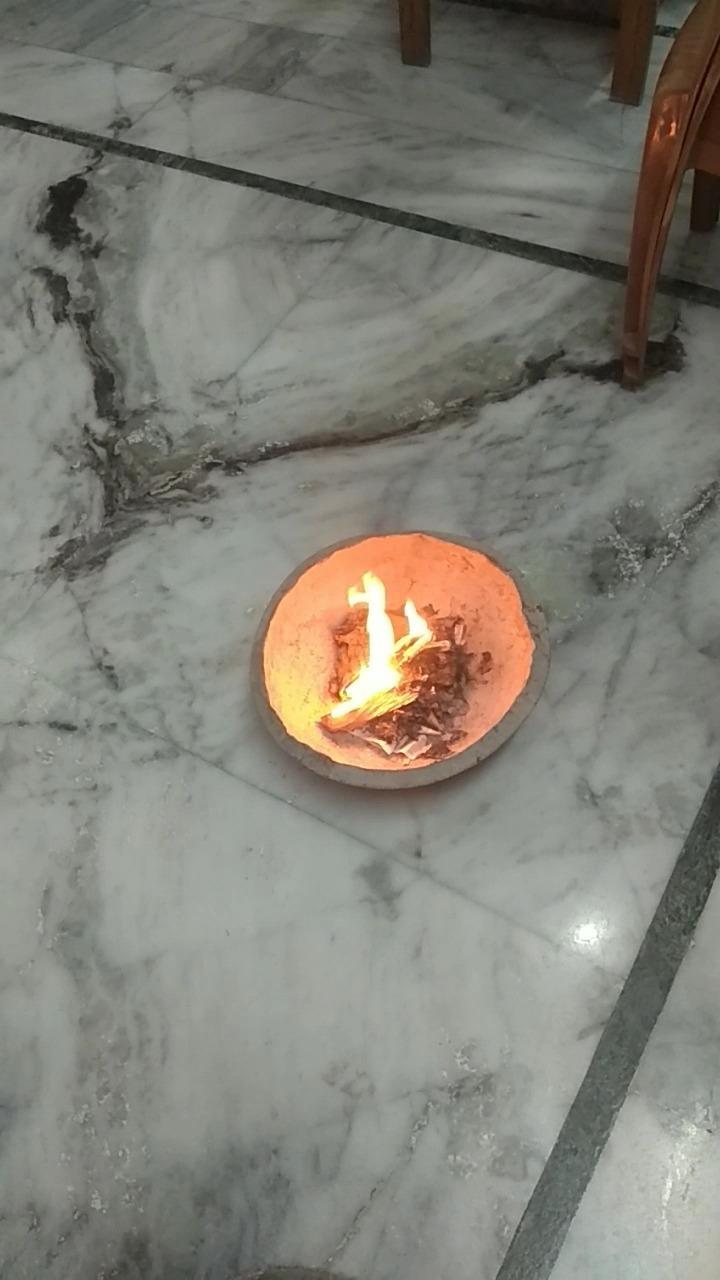fire: (324, 565, 448, 726)
